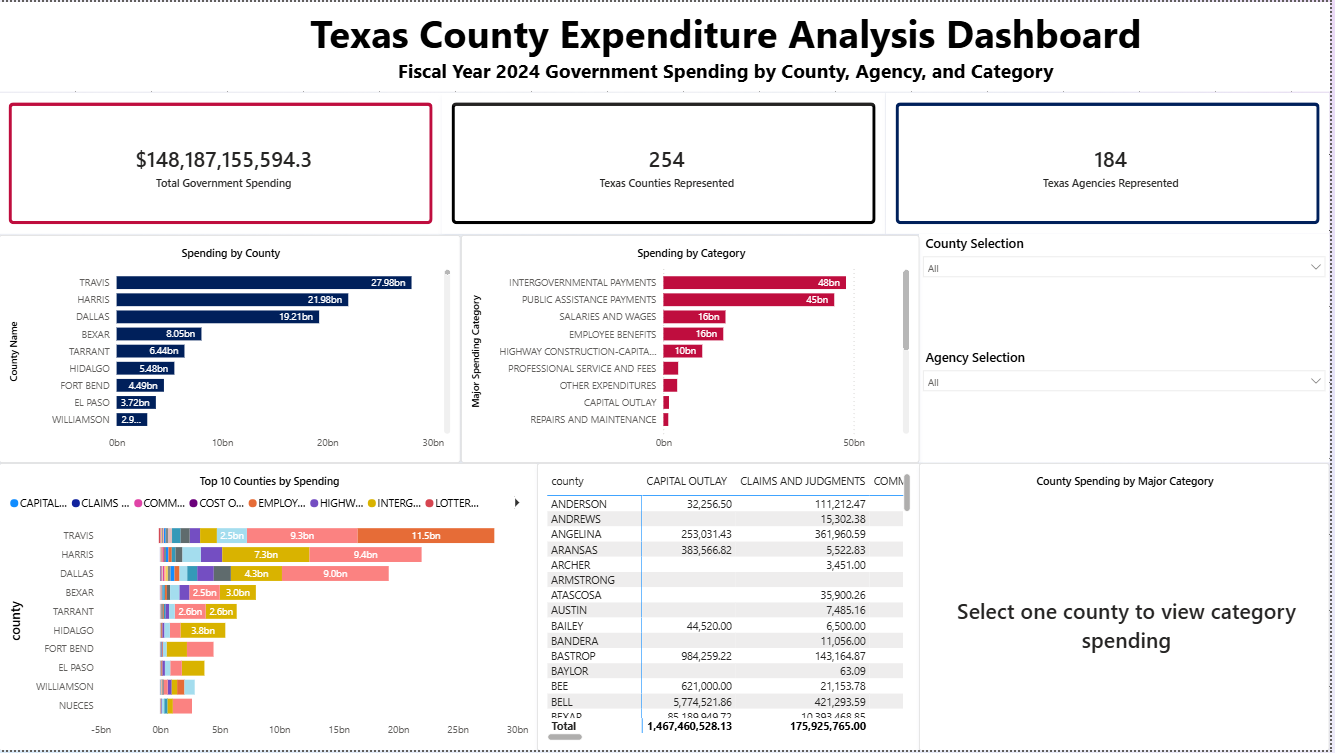

What the dashboard file says about the page in this screenshot:
{"tool":"powerbi","page":{"name":"Page 1","canvas":[1664,936],"ordinal":0},"visuals":[{"type":"textbox","box":[-128,0,1920,112],"z":0},{"type":"cardVisual","fields":{"Data":["Sum(cleaned_expenditures_by_county_2024.amount)"]},"box":[0,114,555,176.2],"z":1000},{"type":"cardVisual","fields":{"Data":["Count(cleaned_expenditures_by_county_2024.county)"]},"box":[553.6,114,555,176.2],"z":2000},{"type":"cardVisual","fields":{"Data":["Count(cleaned_expenditures_by_county_2024.agency_name)"]},"box":[1108.6,114,555,176.2],"z":3000},{"type":"slicer","fields":{"Values":["cleaned_expenditures_by_county_2024.county"]},"box":[1150,290,512.9,142.9],"z":4000},{"type":"slicer","fields":{"Values":["cleaned_expenditures_by_county_2024.agency_name"]},"box":[1150,432.9,512.9,142.9],"z":5000},{"type":"barChart","title":"Spending by County","fields":{"Y":["Sum(cleaned_expenditures_by_county_2024.amount)"],"Category":["cleaned_expenditures_by_county_2024.county"]},"box":[0,290.6,577.3,285.4],"z":6000},{"type":"barChart","title":"Spending by Category","fields":{"Y":["Sum(cleaned_expenditures_by_county_2024.amount)"],"Category":["cleaned_expenditures_by_county_2024.major_spending_category"]},"box":[577.3,290.6,573.4,285.4],"z":7000},{"type":"barChart","title":"Top 10 Counties by Spending","fields":{"Series":["cleaned_expenditures_by_county_2024.major_spending_category"],"Category":["cleaned_expenditures_by_county_2024.county"],"Y":["Sum(cleaned_expenditures_by_county_2024.amount)"]},"box":[0,576,674.6,360.3],"z":8000},{"type":"pivotTable","fields":{"Rows":["cleaned_expenditures_by_county_2024.county"],"Columns":["cleaned_expenditures_by_county_2024.major_spending_category"],"Values":["Sum(cleaned_expenditures_by_county_2024.amount)"]},"box":[672.5,576.2,480,360],"z":9000},{"type":"pieChart","fields":{"Category":["cleaned_expenditures_by_county_2024.major_spending_category"],"Y":["cleaned_expenditures_by_county_2024.County Category Spending"]},"box":[1150,576,513,360],"z":10000},{"type":"cardVisual","fields":{"Data":["cleaned_expenditures_by_county_2024.County Selection Message"]},"box":[1152,624,512,304],"z":10001}]}

Visuals, with their boxes in screenshot pixels (x1, y1, x2, y2), scaled from the page's 1664x936 canvas onto the 1335x753 screenshot:
textbox: [0,0,1334,90]
cardVisual - Sum(cleaned_expenditures_by_county_2024.amount): [0,92,445,233]
cardVisual - Count(cleaned_expenditures_by_county_2024.county): [444,92,889,233]
cardVisual - Count(cleaned_expenditures_by_county_2024.agency_name): [889,92,1334,233]
slicer - cleaned_expenditures_by_county_2024.county: [923,233,1334,348]
slicer - cleaned_expenditures_by_county_2024.agency_name: [923,348,1334,463]
"Spending by County" barChart: [0,234,463,463]
"Spending by Category" barChart: [463,234,923,463]
"Top 10 Counties by Spending" barChart: [0,463,541,752]
pivotTable - cleaned_expenditures_by_county_2024.county x cleaned_expenditures_by_county_2024.major_spending_category: [540,464,925,752]
pieChart - cleaned_expenditures_by_county_2024.major_spending_category x cleaned_expenditures_by_county_2024.County Category Spending: [923,463,1334,752]
cardVisual - cleaned_expenditures_by_county_2024.County Selection Message: [924,502,1334,747]
